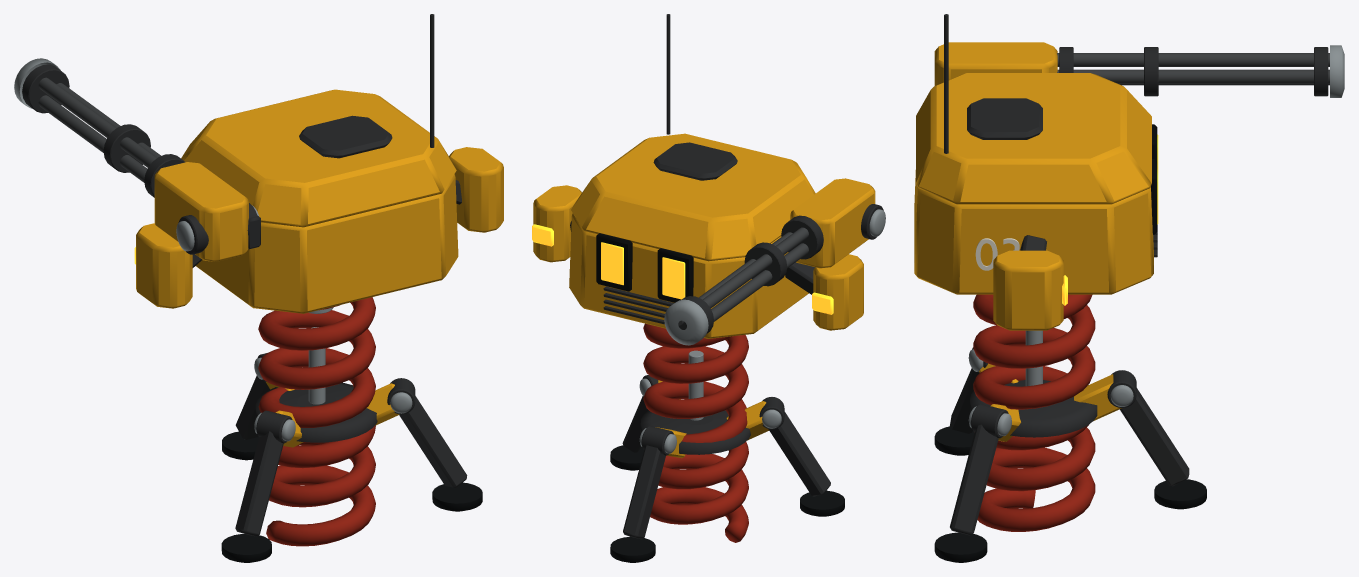
Rendered from pogo_03.glb.
3 views of the same model, side by side, from view 1: azimuth 30°, elevation 25°; view 2: azimuth 150°, elevation 25°; view 3: azimuth 270°, elevation 25° (orthographic). The views are drawn at different scales.
Parts seen in each view (by area): view 1: Hull.002Surface, CoilSurface, HubSurface, GunMount.001Surface, GunBarrels.001Surface; view 2: Hull.002Surface, CoilSurface, HubSurface, GunBarrels.001Surface, GunMount.001Surface; view 3: Hull.002Surface, CoilSurface, HubSurface, GunBarrels.001Surface, GunMount.001Surface.
Part boxes in pixels (x1,y1,x2,y2): Hull.002Surface: (134, 14, 503, 313); CoilSurface: (258, 297, 375, 546); HubSurface: (221, 327, 482, 562); GunMount.001Surface: (154, 162, 260, 261); GunBarrels.001Surface: (14, 58, 185, 197); Hull.002Surface: (532, 14, 863, 338); CoilSurface: (643, 323, 748, 542); HubSurface: (610, 350, 844, 562); GunBarrels.001Surface: (664, 215, 823, 345); GunMount.001Surface: (790, 178, 885, 268); Hull.002Surface: (914, 14, 1158, 330); CoilSurface: (973, 294, 1095, 531); HubSurface: (934, 330, 1206, 562); GunBarrels.001Surface: (1057, 45, 1344, 97); GunMount.001Surface: (934, 42, 1057, 85).
Bounding box in the file's own units: 1.44 × 2.08 × 1.47.
